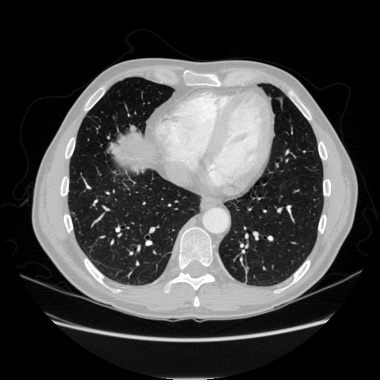PN: (130, 126, 134, 130)
